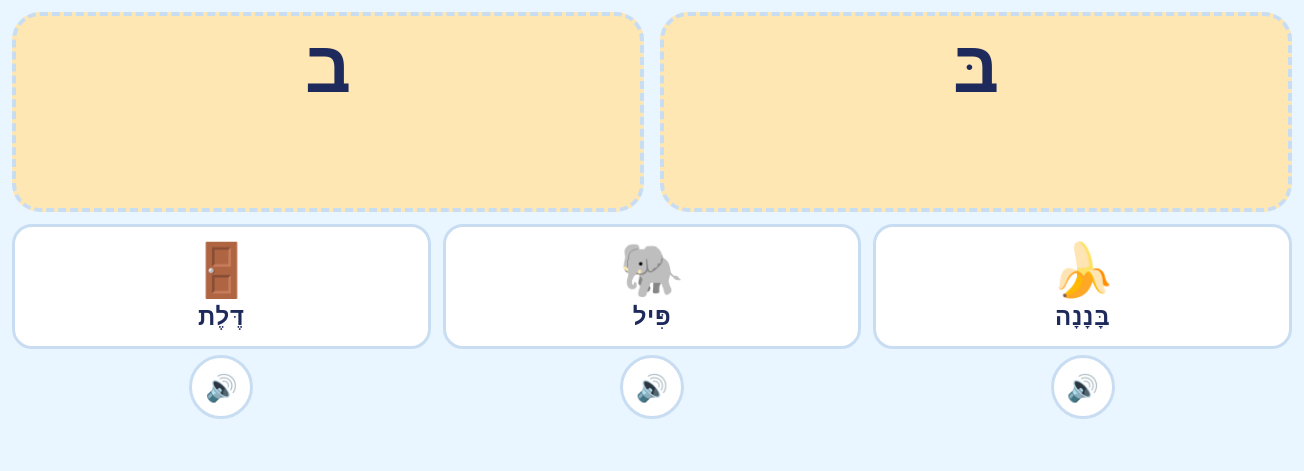
Scenario: SortGame › sorts by click card then click basket, one success at the end
Click the button with class "hb-card" showing "🍌 בָּנָנָה". click: (1083, 286)
box: [873,224,1292,349]
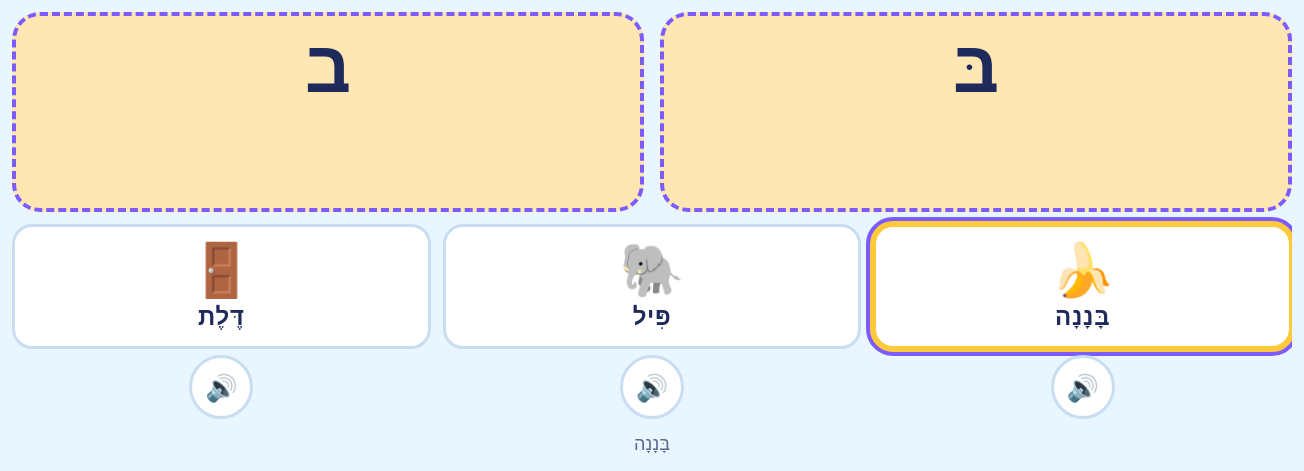
Click the button "בּ". click: (976, 67)
box: [937,24,1015,110]
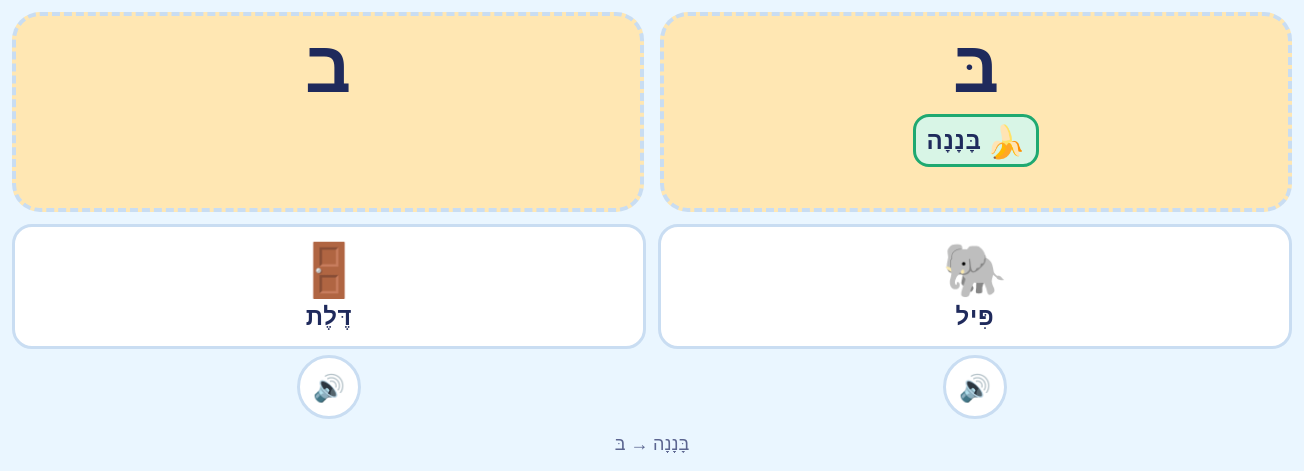
Click the button with class "hb-card" showing "🐘 פִּיל". click: (975, 286)
box: [658,224,1292,349]
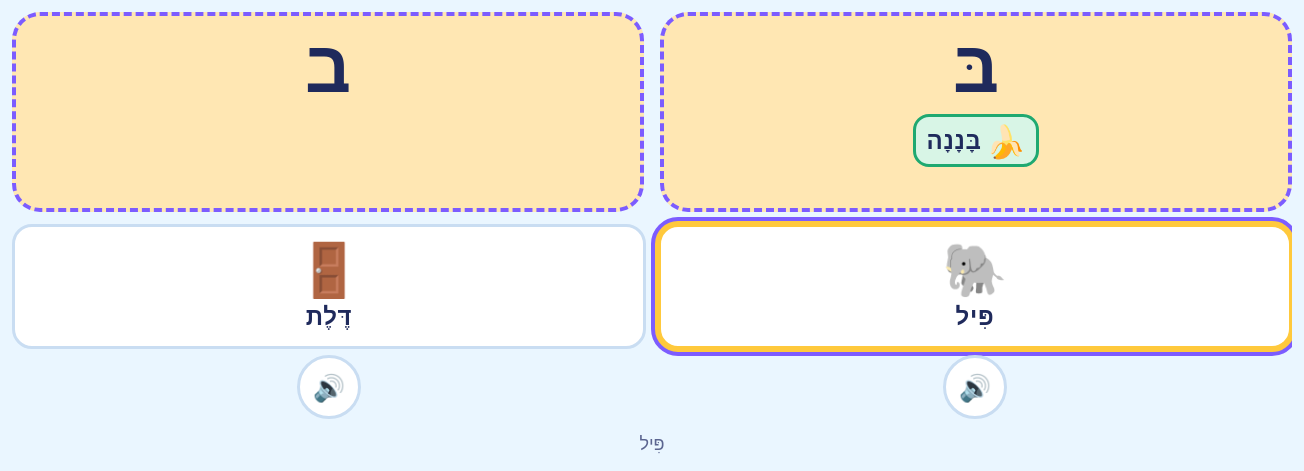
Click the button "ב". click: (328, 67)
box: [289,24,367,110]
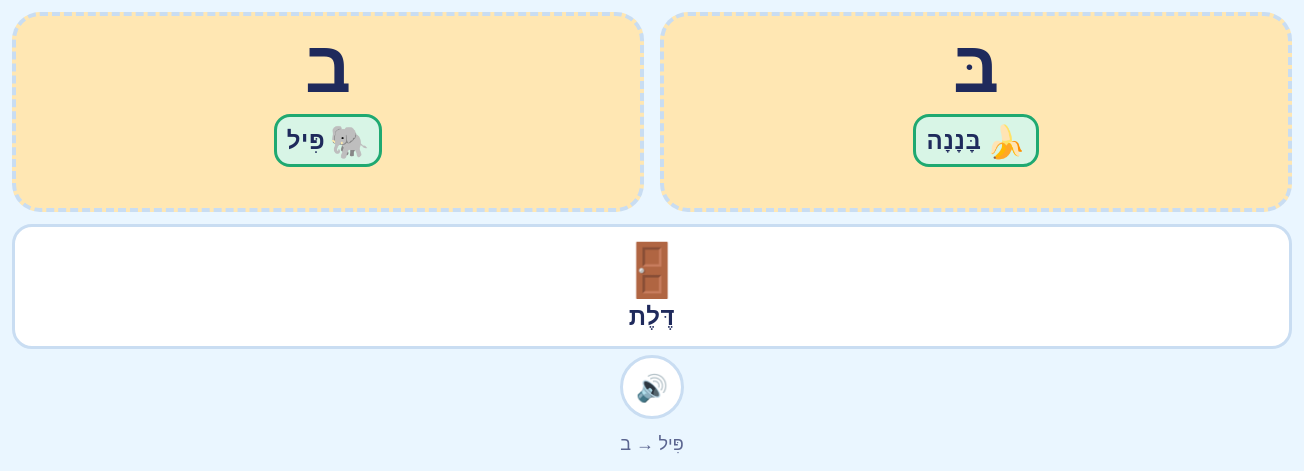
Now the number of elements with class "hb-chip" is 2, box [914,114,1039,167]; [274,114,382,167]
Click the button with class "hb-card". click: (652, 286)
box: [12,224,1292,349]
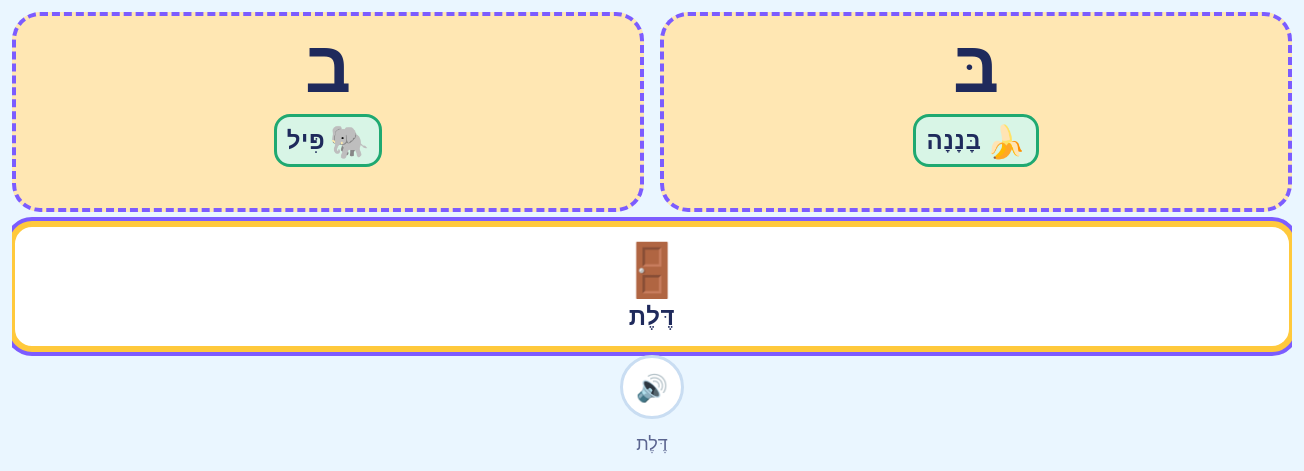
Click the button "בּ". click: (976, 67)
box: [937,24,1015,110]
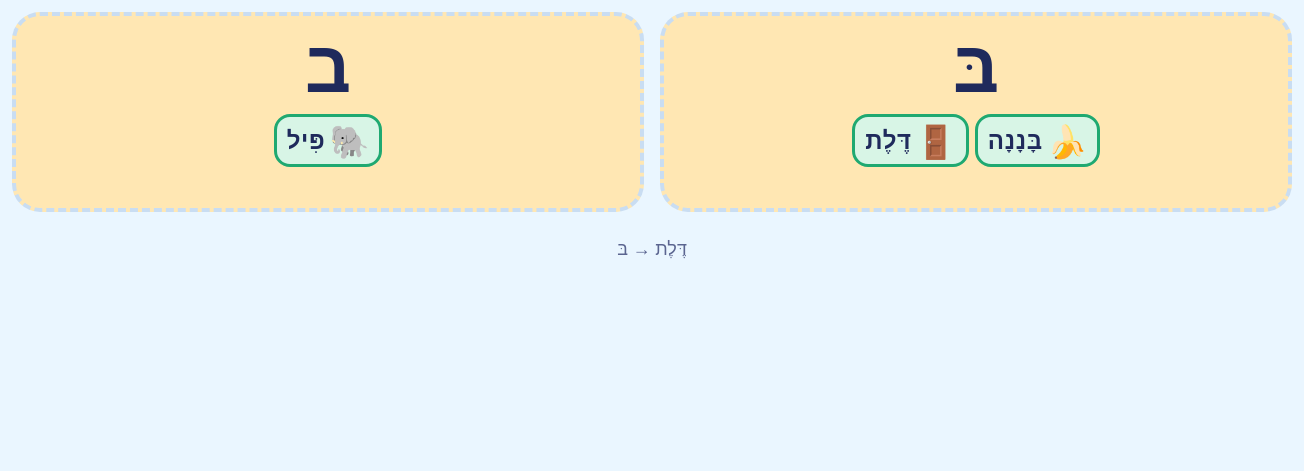
Now no buttons with class "hb-card" are shown
